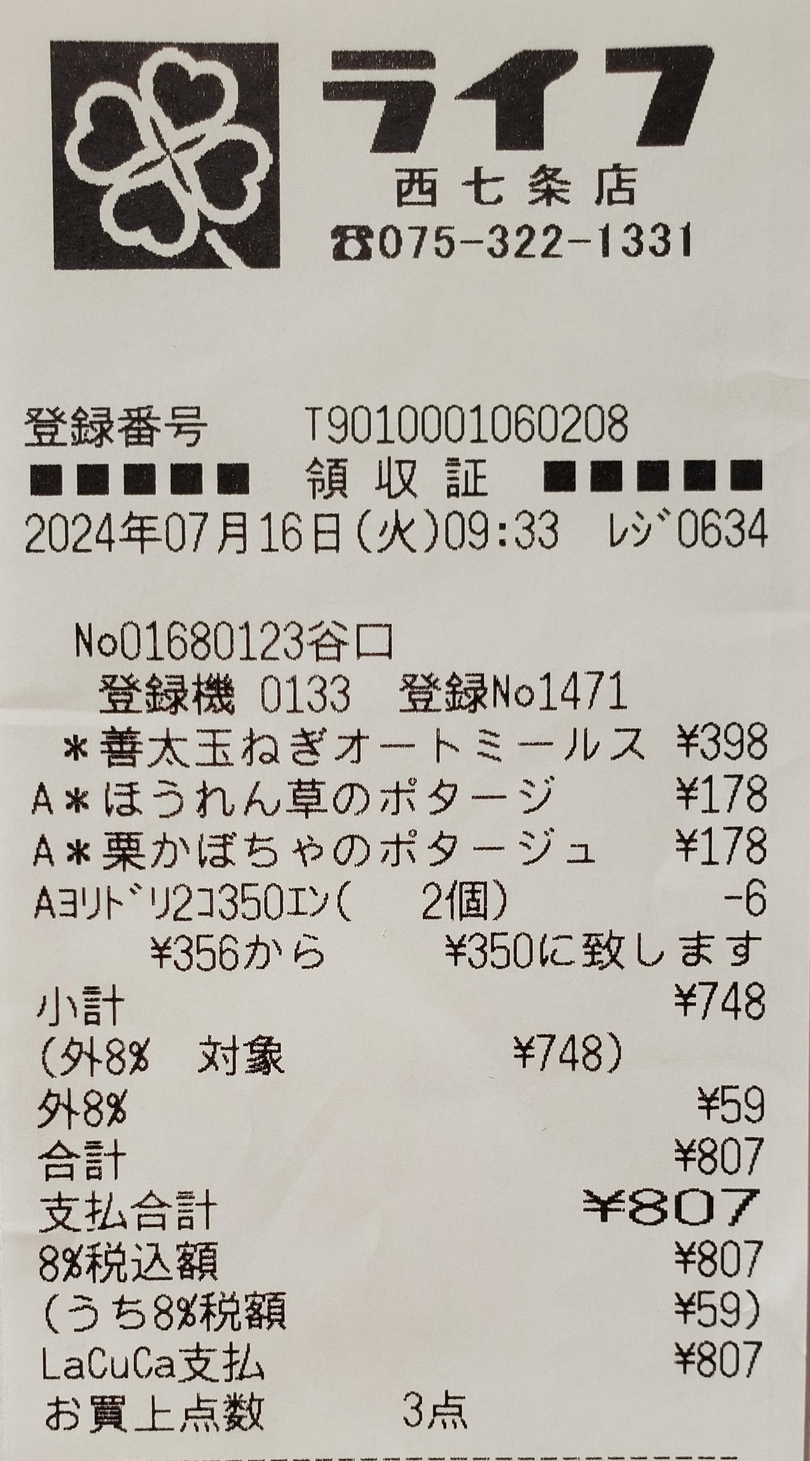TEL: (382, 211, 711, 278)
date: (11, 503, 349, 562)
total: (629, 1176, 771, 1229)
